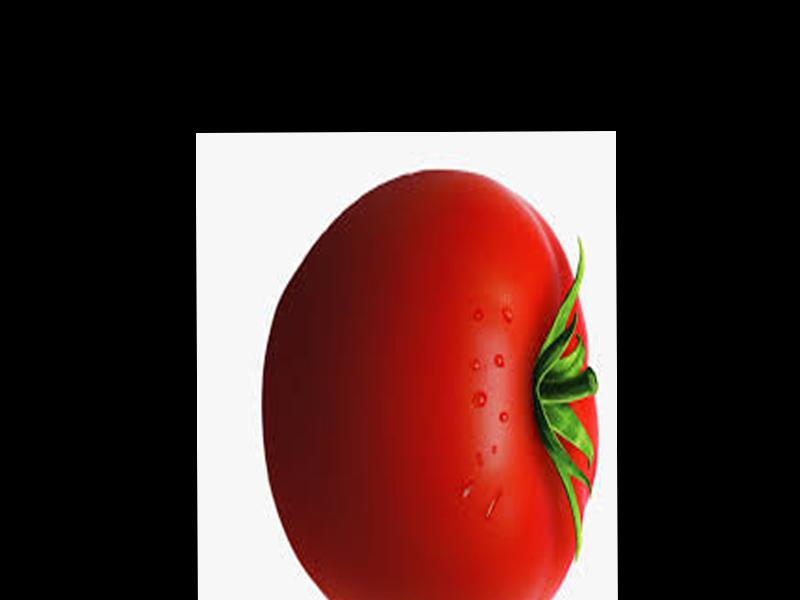Tomato: (260, 169, 598, 596)
